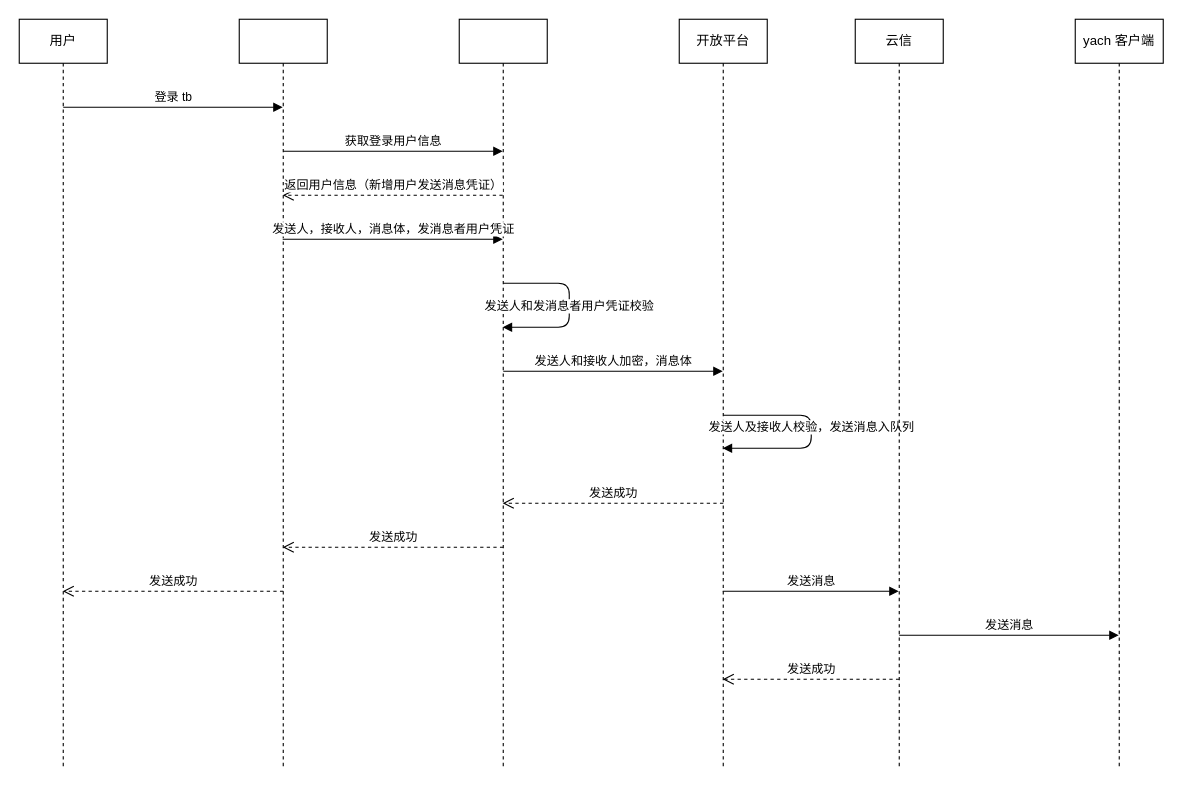
Image size: 1183x787. Some labels were removed from this diagram. The shapes that lost their labels are listed below. From the top down, each one's box as (x1, y1, x2, y2) in pixels, then its label:
(238, 18, 327, 767): tb
(458, 18, 547, 767): 通用组件
